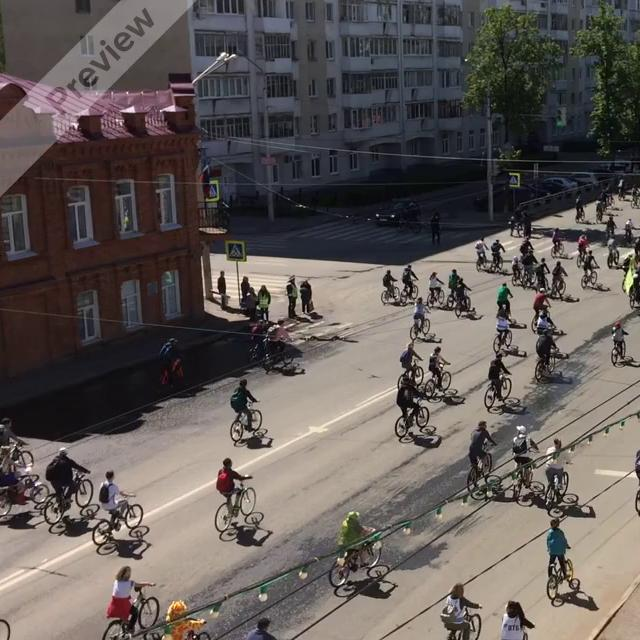bicycle: (102, 582, 159, 639), (328, 537, 390, 588), (91, 494, 147, 547), (214, 475, 264, 532), (42, 471, 93, 523), (0, 473, 49, 516), (466, 443, 502, 500), (546, 556, 580, 607), (511, 455, 544, 506), (229, 400, 265, 442), (394, 400, 429, 438), (544, 460, 572, 506), (0, 438, 34, 471), (484, 372, 512, 409), (261, 346, 294, 374), (424, 363, 451, 397), (534, 347, 559, 382), (397, 359, 423, 388), (409, 314, 430, 340), (610, 335, 628, 365), (531, 307, 551, 333), (453, 294, 474, 318), (381, 280, 401, 304), (493, 327, 512, 352), (548, 276, 566, 299), (426, 285, 444, 307), (580, 268, 597, 288), (401, 278, 418, 298), (488, 251, 504, 272), (606, 245, 619, 269), (476, 251, 489, 271)
